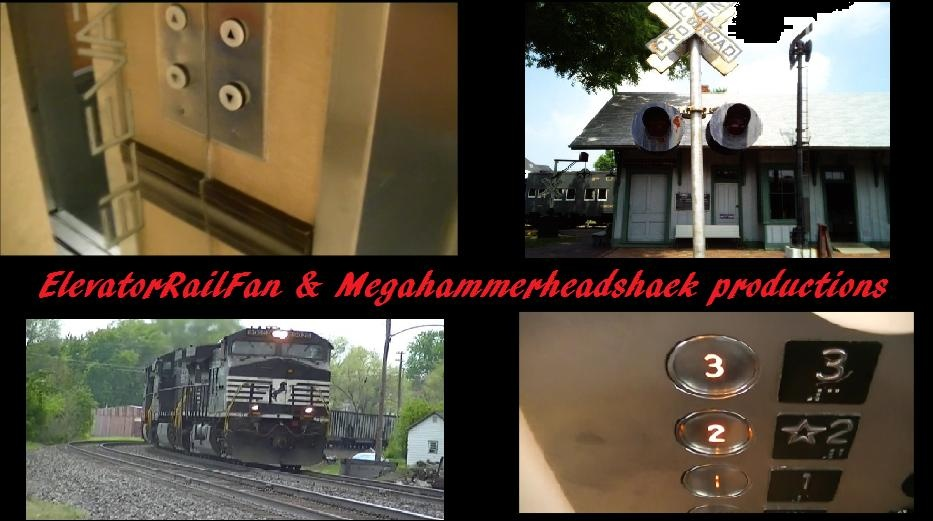1: (766, 470, 842, 505), (680, 463, 751, 499)
2: (674, 409, 754, 459)
3: (778, 340, 882, 404), (665, 333, 762, 400)
down: (216, 83, 243, 112), (165, 63, 187, 89)
s2: (772, 414, 860, 462)
up: (219, 19, 244, 49), (164, 5, 187, 30)
